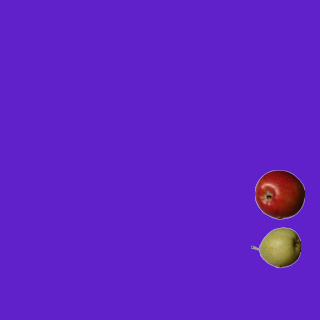Apple Braeburn: (254, 169, 304, 219)
Pear: (250, 222, 300, 272)
